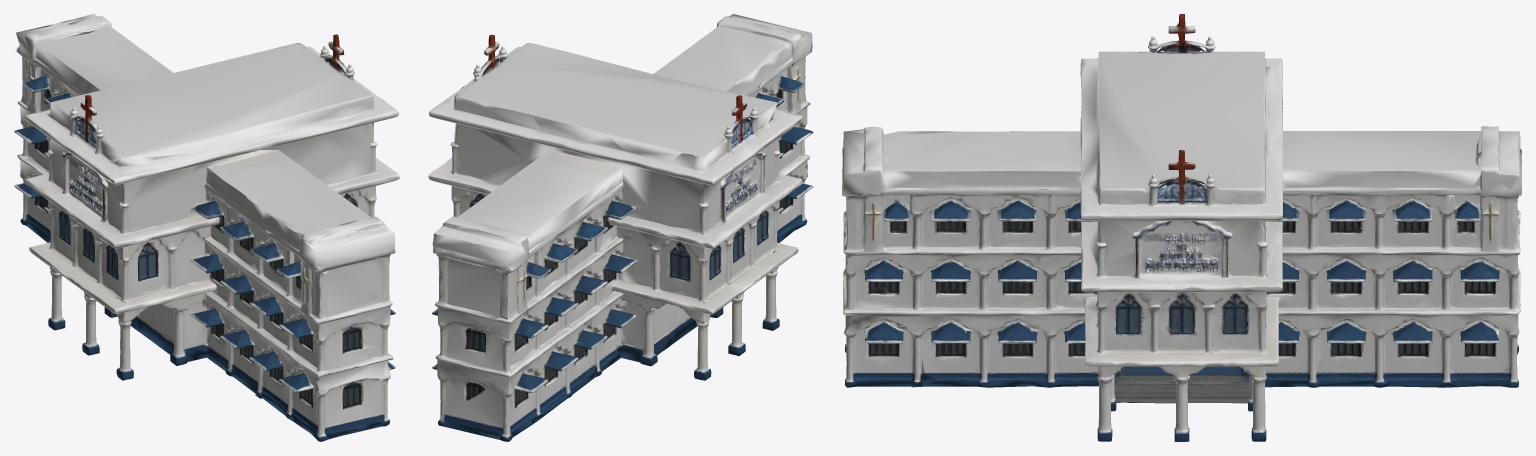
The model's file is Hospital.glb.
The picture shows the model from 3 angles, left to right: view 1: azimuth 30°, elevation 25°; view 2: azimuth 150°, elevation 25°; view 3: azimuth 270°, elevation 25°; orthographic projection. The views are drawn at different scales.
Visible parts, largest first — view 1: tripo_node_0d777e53-e415-43e0-89ba-580f424d43bf; view 2: tripo_node_0d777e53-e415-43e0-89ba-580f424d43bf; view 3: tripo_node_0d777e53-e415-43e0-89ba-580f424d43bf.
Boxes of the visible parts, <box> form: tripo_node_0d777e53-e415-43e0-89ba-580f424d43bf: <box>14,14,399,441</box>; tripo_node_0d777e53-e415-43e0-89ba-580f424d43bf: <box>428,14,813,441</box>; tripo_node_0d777e53-e415-43e0-89ba-580f424d43bf: <box>842,14,1521,441</box>.
Size of the model in its own units: 0.5357 by 0.4621 by 0.98.
1 material, 1 textured.
